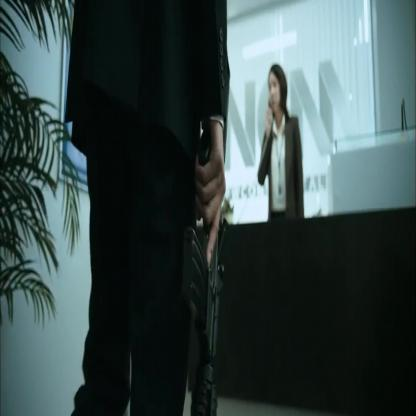Gun: (178, 130, 232, 415)
